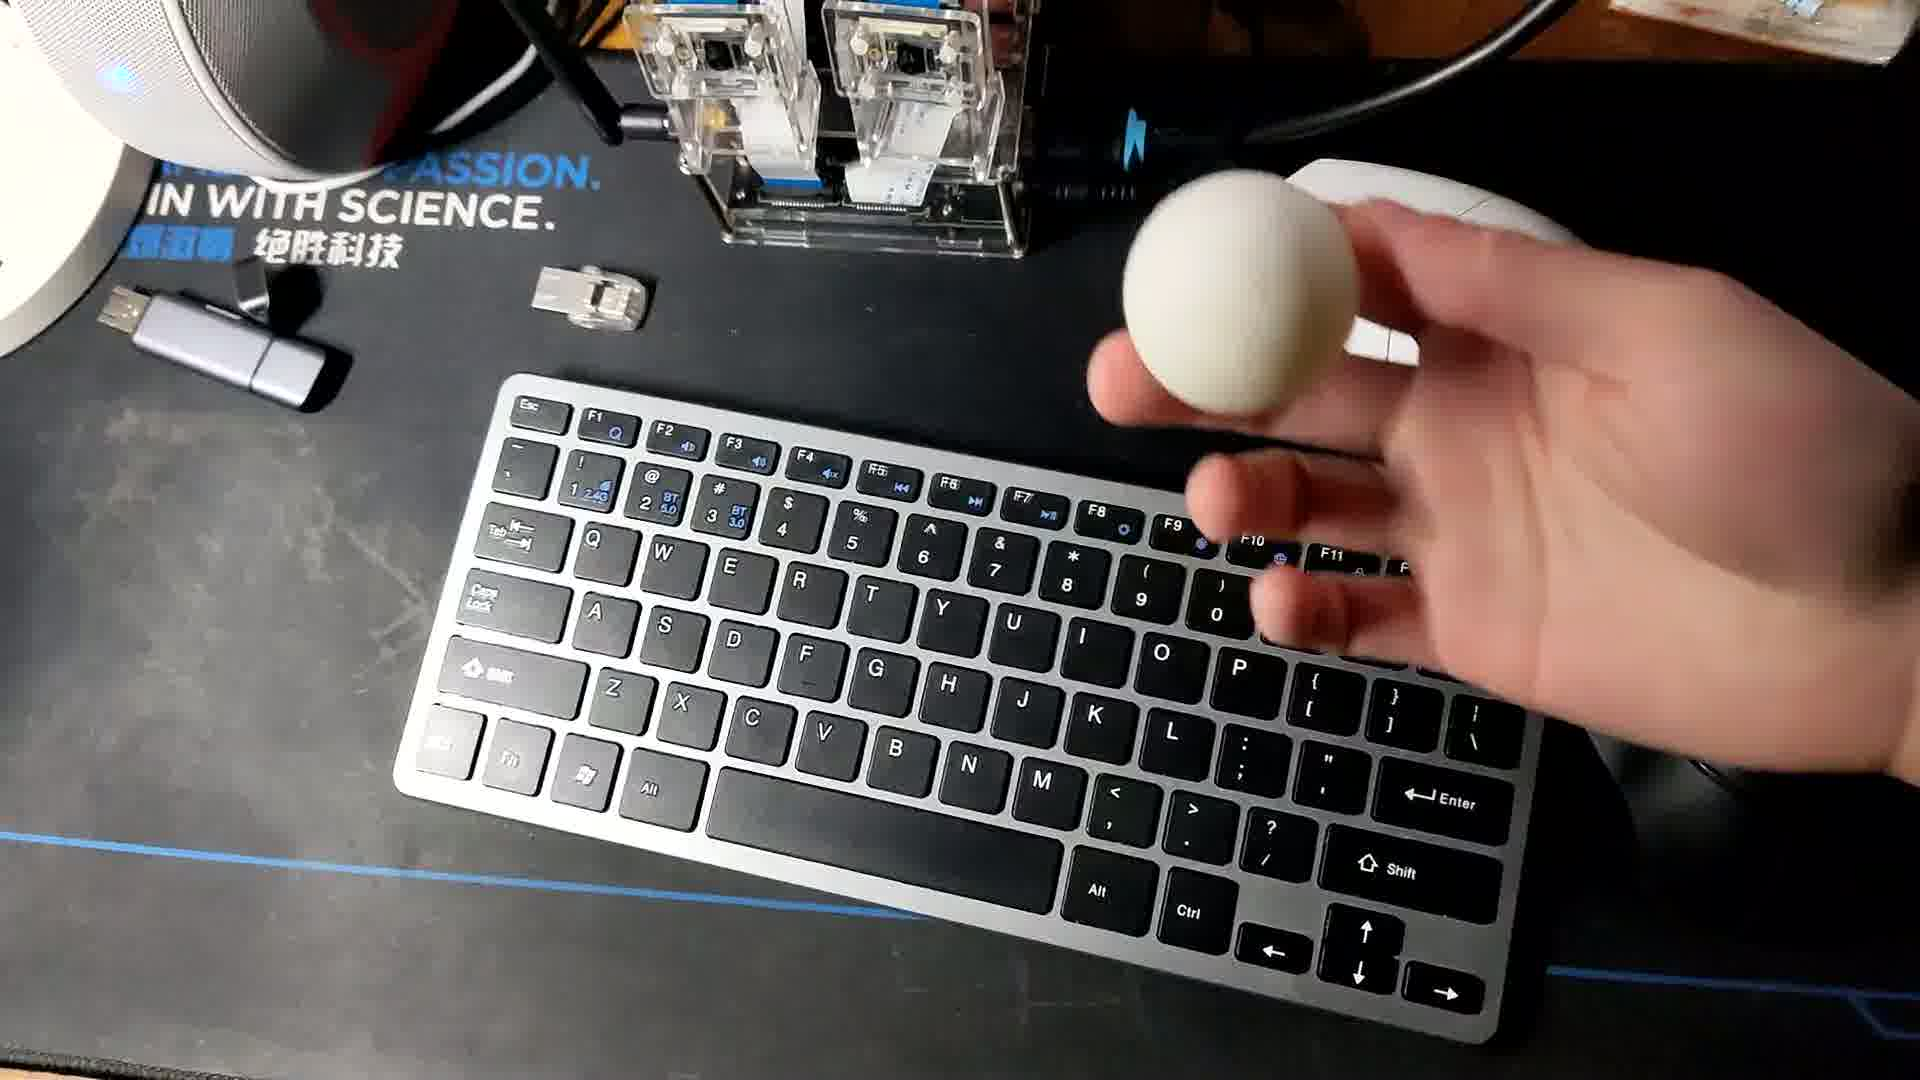Ball: (1127, 171, 1352, 419)
